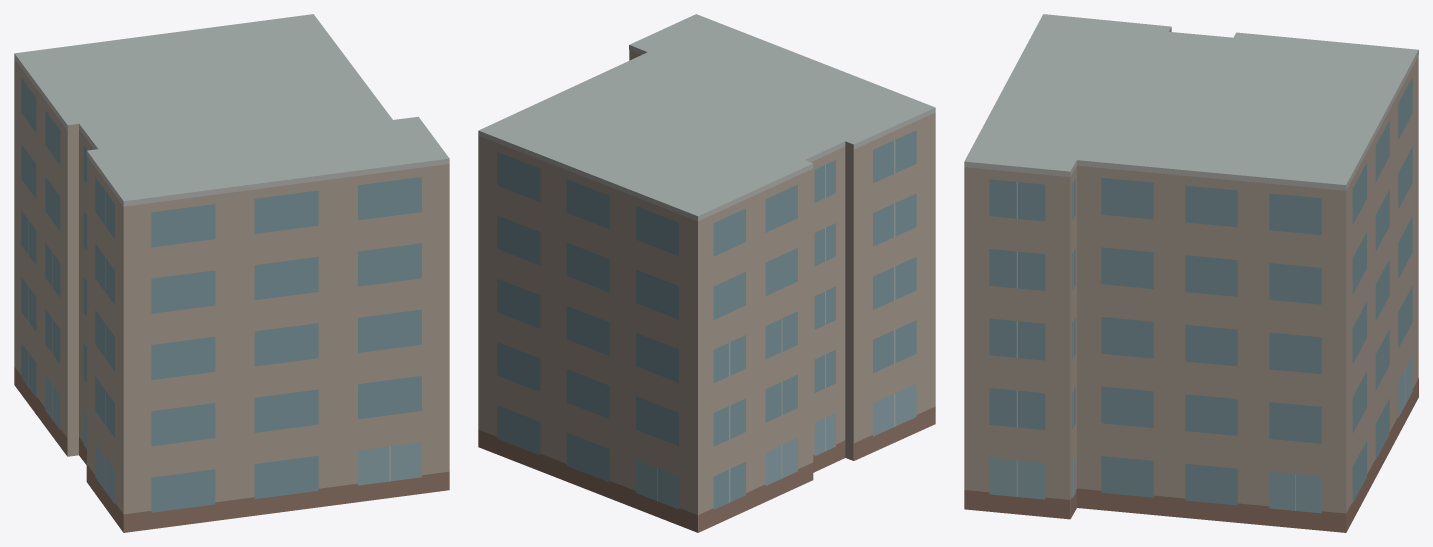
File: survey-upis-32899250.glb
The picture shows the model from 3 angles, left to right: view 1: azimuth 30°, elevation 25°; view 2: azimuth 150°, elevation 25°; view 3: azimuth 270°, elevation 25°; orthographic projection. The views are drawn at different scales.
Parts seen in each view (by area): view 1: survey-upis-32899250.tmp; view 2: survey-upis-32899250.tmp; view 3: survey-upis-32899250.tmp.
Part boxes in pixels (x1,y1,x2,y2): survey-upis-32899250.tmp: (14, 14, 449, 532); survey-upis-32899250.tmp: (478, 14, 935, 532); survey-upis-32899250.tmp: (964, 14, 1418, 532).
Bounding box in the file's own units: 16.05 × 15.2 × 18.01.
